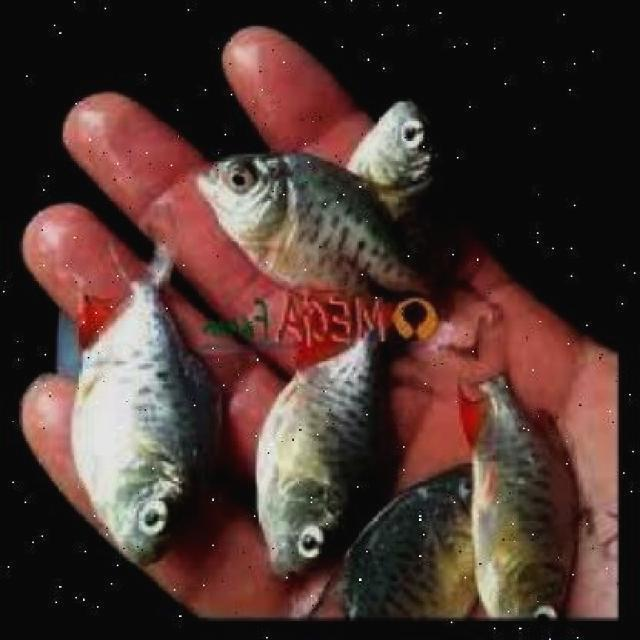ikan-pacu: (69, 250, 226, 568), (194, 143, 446, 300), (254, 310, 398, 576), (471, 376, 584, 622), (340, 464, 476, 613), (350, 97, 453, 260)
